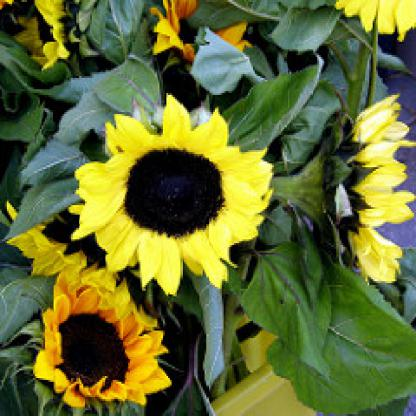SUN FLOWER: (20, 87, 311, 408)
